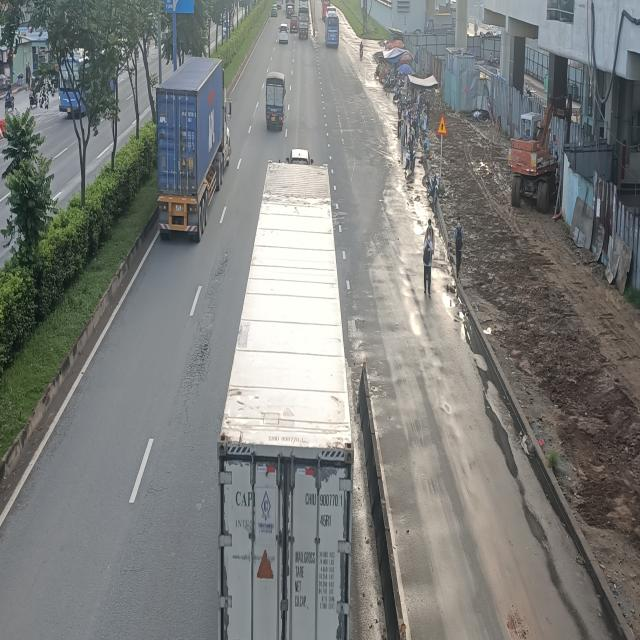coach: (323, 7, 339, 47)
container: (215, 145, 364, 640), (157, 57, 235, 243)
truck: (265, 72, 288, 132)
